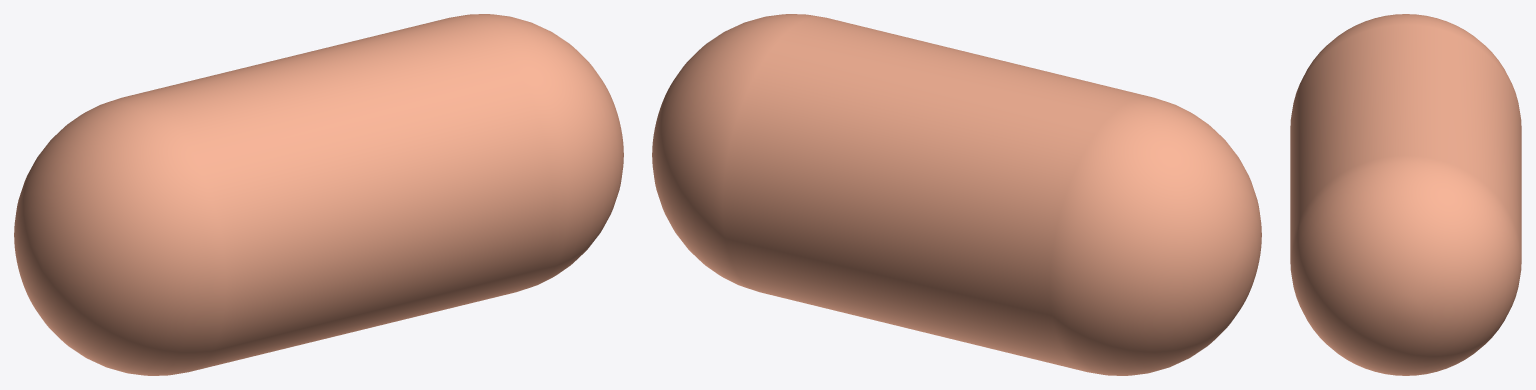
The model's file is mitochondrion.glb.
The picture shows the model from 3 angles, left to right: view 1: azimuth 30°, elevation 25°; view 2: azimuth 150°, elevation 25°; view 3: azimuth 270°, elevation 25°; orthographic projection. The views are drawn at different scales.
Visible parts, largest first — view 1: outer_membrane; view 2: outer_membrane; view 3: outer_membrane.
Part boxes in pixels (bbox=[...]): outer_membrane: bbox=[14, 14, 623, 375]; outer_membrane: bbox=[652, 14, 1261, 375]; outer_membrane: bbox=[1290, 14, 1521, 375].
Bounding box in the file's own units: 0.07 × 0.03 × 0.03.
